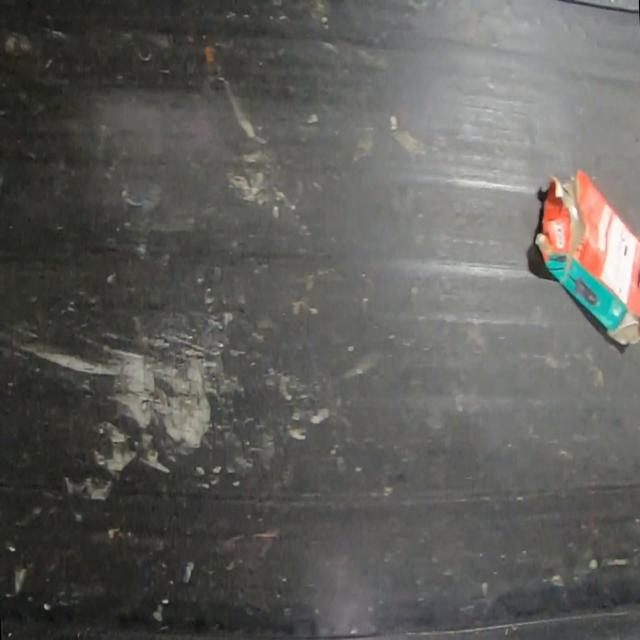cardboard: (534, 168, 640, 347)
